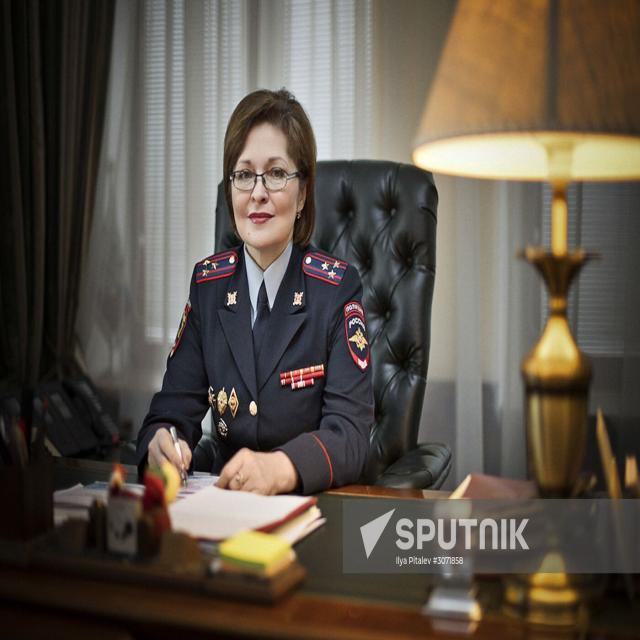police: (133, 41, 410, 547)
